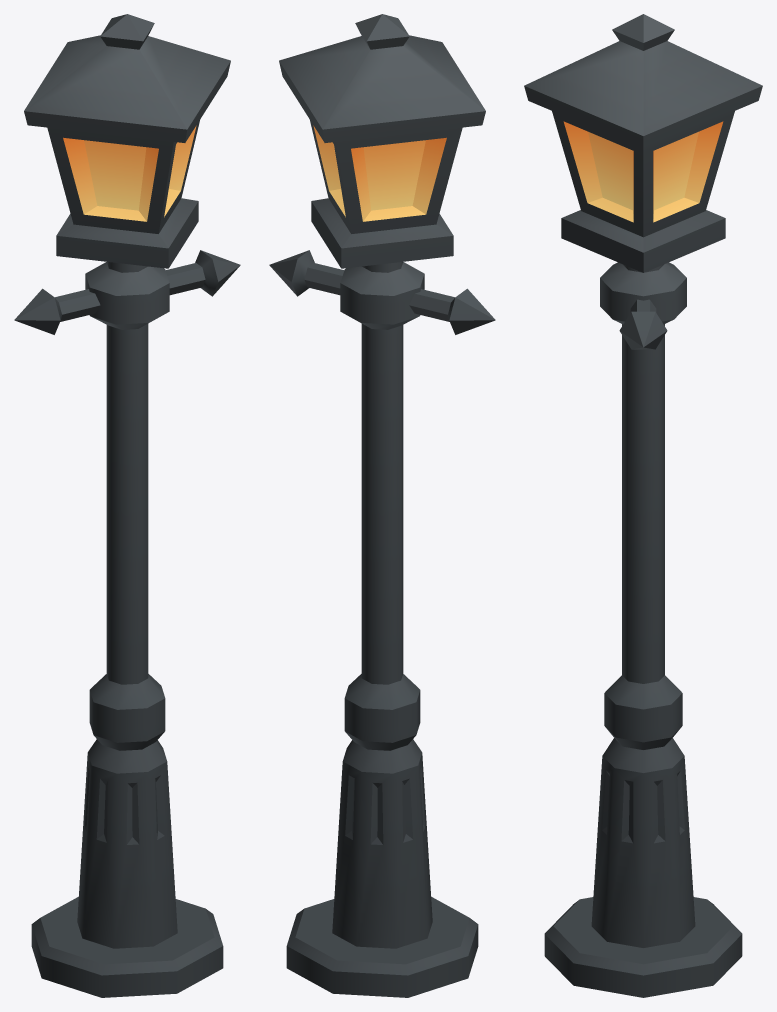
File: lantern.glb
3 renders of one model, left to right at view 1: azimuth 30°, elevation 25°; view 2: azimuth 150°, elevation 25°; view 3: azimuth 270°, elevation 25°, orthographic.
Visible parts, largest first — view 1: lantern; view 2: lantern; view 3: lantern.
Boxes of the visible parts, left/top/right/bottom form: lantern: left=14, top=14, right=240, bottom=997; lantern: left=269, top=14, right=495, bottom=997; lantern: left=524, top=14, right=762, bottom=997.
Bounding box in the file's own units: 0.9912 × 3.94 × 0.9051.
2 materials, 2 textured.
